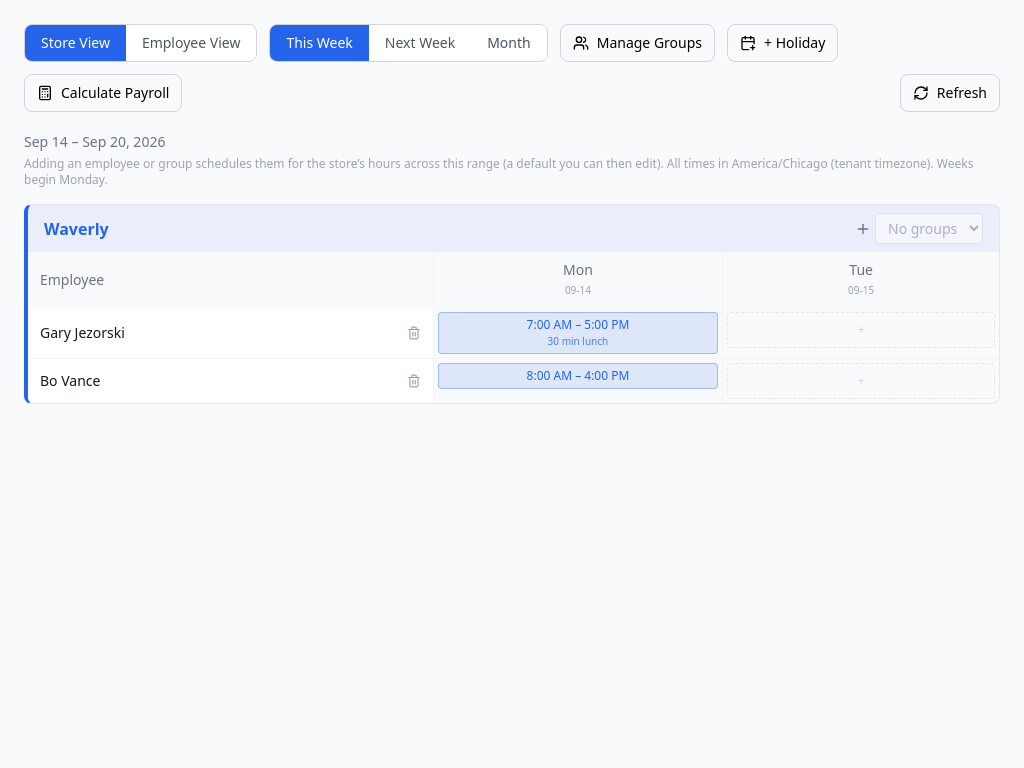
Scenario: Calculate Payroll button › is shown to a holder of the real grant and prices the visible range
expect the heading "Waverly" is shown: met, box [44,216,109,240]
Step 1. Click the button "Calculate Payroll" → [103, 93], box [24,74,182,112]
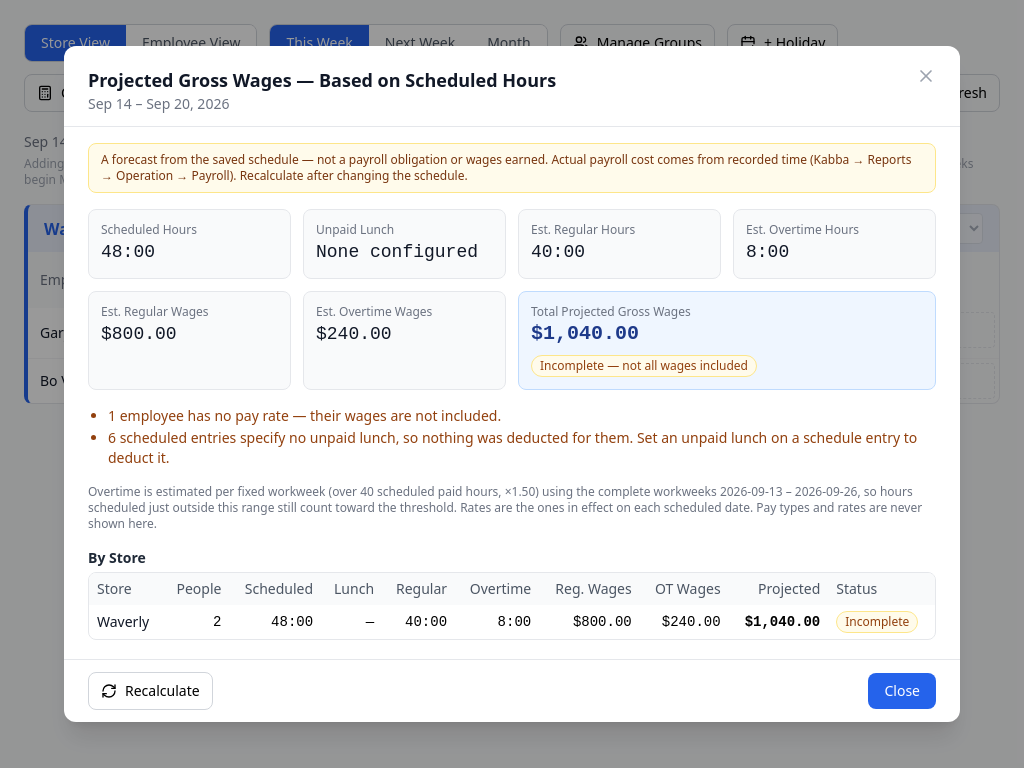
expect the heading "Projected Gross Wages — Based on Scheduled Hours" is shown: met, box [88,66,556,94]
expect the text "$1,040.00" below "Total Projected Gross Wages" is shown: met, box [531,322,639,345]
expect the text "$800.00" is shown: met, box [101,324,177,344]
